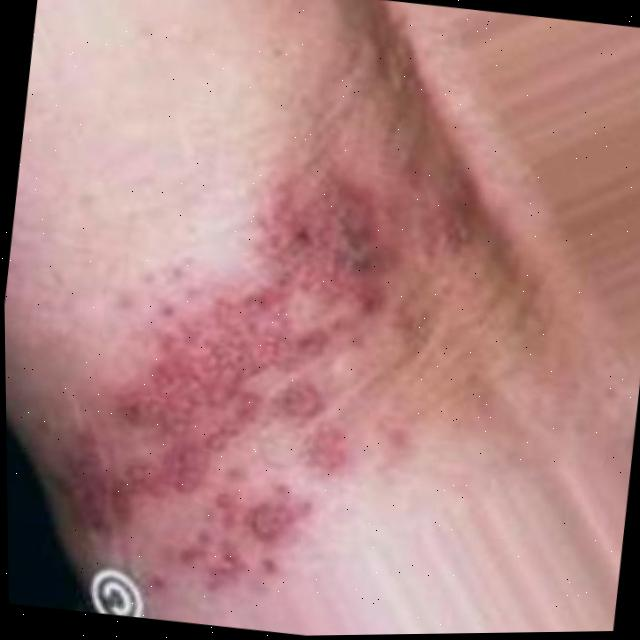Shingles: (34, 147, 483, 617)
